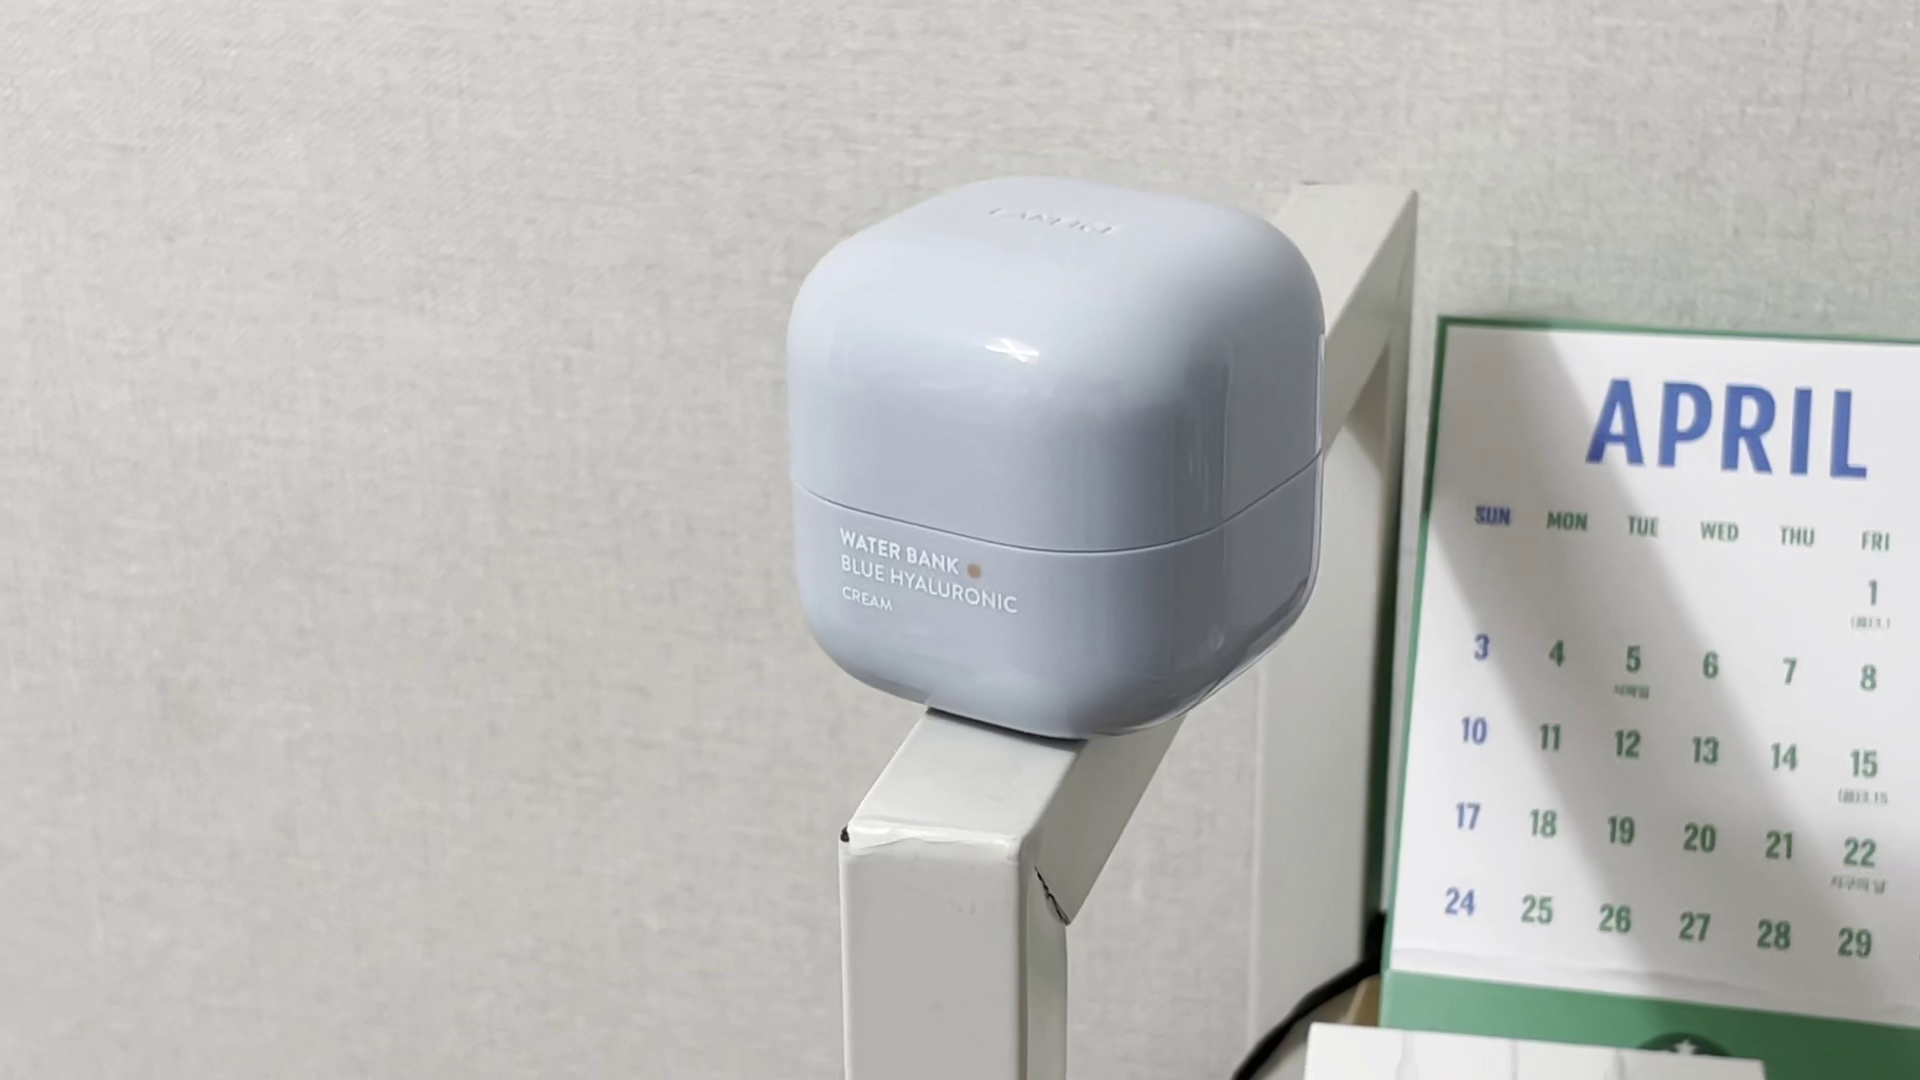cream: (793, 175, 1320, 735)
